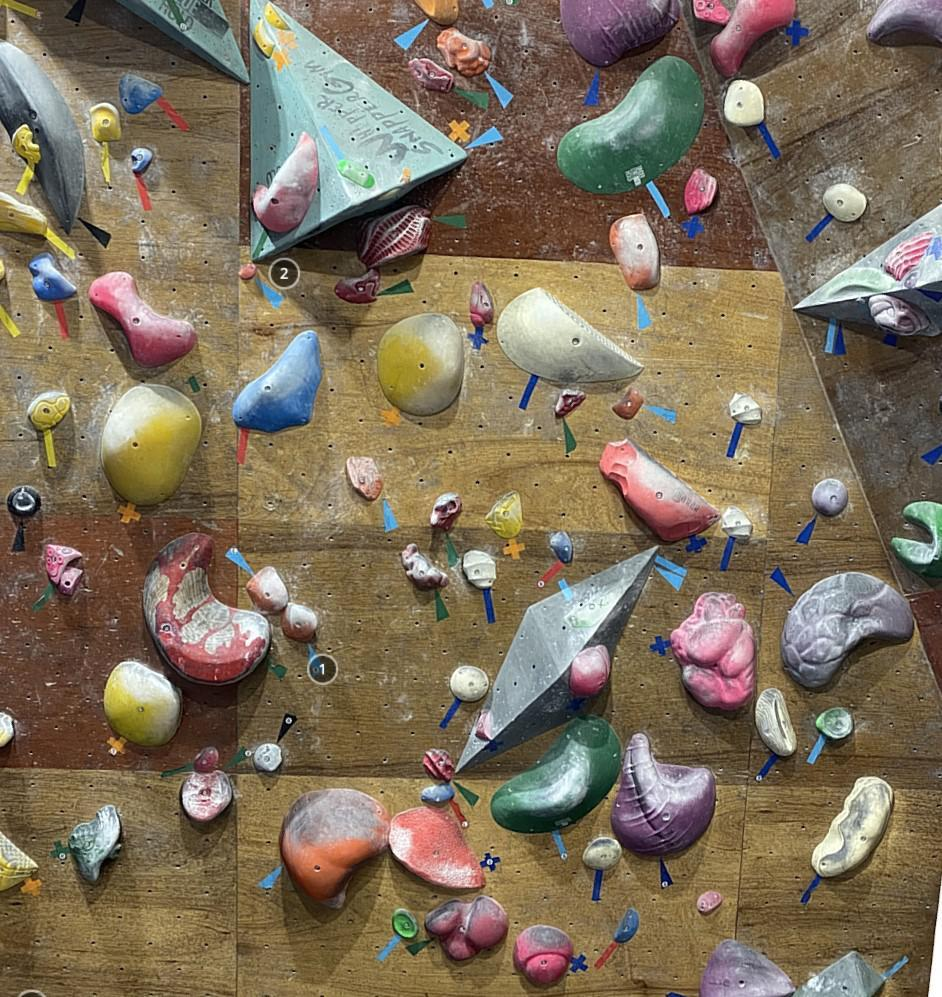hold: (556, 55, 705, 195), (142, 533, 272, 685), (0, 36, 85, 238), (490, 714, 622, 833), (780, 572, 913, 688), (494, 286, 646, 382), (279, 788, 391, 910), (611, 732, 717, 856), (598, 438, 721, 543), (101, 384, 202, 507), (87, 270, 196, 369), (670, 592, 755, 710), (376, 312, 465, 416), (233, 330, 322, 433), (811, 776, 894, 878), (388, 805, 486, 890), (560, 0, 681, 67), (103, 660, 184, 747), (709, 0, 796, 79), (252, 131, 319, 233), (699, 939, 796, 997), (426, 894, 509, 961), (356, 205, 434, 271), (789, 950, 885, 997), (68, 805, 122, 884), (891, 500, 942, 580), (609, 213, 661, 291), (512, 924, 573, 985), (866, 0, 942, 43), (755, 686, 798, 756), (867, 293, 931, 338), (180, 770, 233, 823), (436, 27, 492, 77), (816, 267, 896, 301), (882, 230, 933, 280), (401, 542, 449, 592), (0, 830, 39, 891), (29, 252, 77, 301), (569, 644, 612, 696), (245, 565, 289, 615), (0, 191, 47, 234), (724, 79, 765, 126), (27, 390, 72, 432), (485, 490, 523, 538), (119, 72, 163, 113), (822, 182, 867, 221), (332, 269, 381, 304), (346, 455, 383, 501), (683, 167, 718, 215), (408, 57, 454, 93), (449, 664, 490, 703), (46, 544, 83, 585), (281, 602, 317, 643), (462, 549, 497, 590), (811, 478, 848, 516), (582, 836, 623, 870), (815, 706, 854, 741), (90, 101, 122, 143), (430, 491, 462, 531), (11, 124, 41, 165), (722, 506, 753, 545), (6, 485, 42, 518), (470, 279, 494, 328), (414, 0, 459, 25), (729, 391, 762, 425), (422, 747, 454, 782), (336, 159, 374, 188), (612, 386, 644, 419), (692, 0, 731, 26), (614, 907, 640, 943), (555, 389, 586, 418), (549, 529, 574, 564), (253, 743, 283, 772), (253, 19, 275, 58), (392, 908, 418, 940), (58, 565, 83, 597), (193, 745, 219, 773), (420, 783, 454, 804), (696, 890, 724, 914), (264, 8, 292, 30), (0, 711, 15, 748), (131, 147, 153, 172), (475, 711, 491, 741), (902, 271, 922, 289), (238, 262, 257, 279), (0, 257, 6, 282)
volume: (251, 0, 468, 263), (454, 545, 660, 774), (791, 203, 942, 331), (114, 0, 251, 85)
